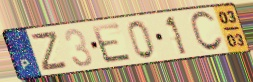0: (125, 19, 157, 61)
1: (164, 14, 190, 56)
3: (64, 27, 94, 68)
C: (188, 9, 226, 54)
E: (90, 21, 135, 65)
Z: (30, 29, 70, 73)
